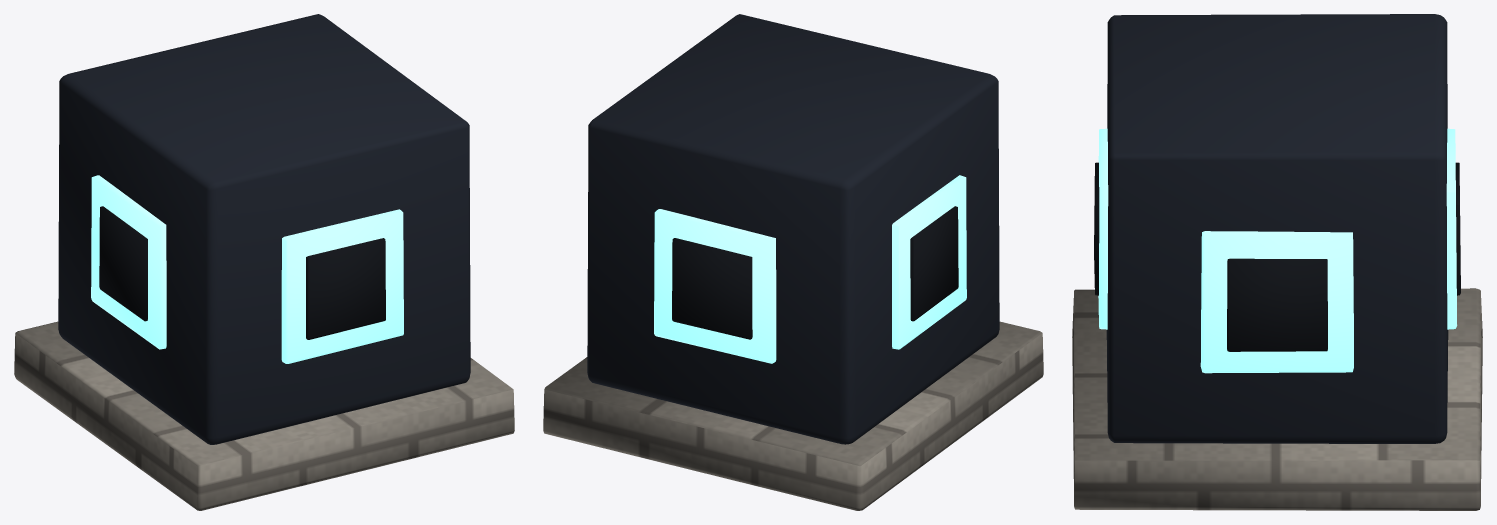
File: OBJ23_list_black_cube_node.glb
3 views of the same model, side by side, from view 1: azimuth 30°, elevation 25°; view 2: azimuth 150°, elevation 25°; view 3: azimuth 270°, elevation 25° (orthographic). The views are drawn at different scales.
Visible parts, largest first — view 1: BlackCube, StonePlinth, OuterGlowRing, InnerRecess, OuterGlowRing4, InnerRecess4; view 2: BlackCube, StonePlinth, OuterGlowRing3, InnerRecess3, OuterGlowRing4, InnerRecess4; view 3: BlackCube, StonePlinth, OuterGlowRing2, InnerRecess2, OuterGlowRing3, OuterGlowRing, InnerRecess, InnerRecess3.
Part boxes in pixels (x1,y1,x2,y2): BlackCube: [58, 14, 470, 444]; StonePlinth: [14, 321, 514, 510]; OuterGlowRing: [281, 209, 403, 363]; InnerRecess: [306, 238, 385, 339]; OuterGlowRing4: [91, 175, 166, 349]; InnerRecess4: [99, 206, 147, 321]; BlackCube: [587, 14, 999, 444]; StonePlinth: [543, 321, 1043, 510]; OuterGlowRing3: [654, 209, 776, 363]; InnerRecess3: [672, 238, 752, 339]; OuterGlowRing4: [892, 175, 966, 349]; InnerRecess4: [910, 206, 958, 321]; BlackCube: [1106, 14, 1448, 443]; StonePlinth: [1072, 288, 1482, 510]; OuterGlowRing2: [1200, 231, 1353, 373]; InnerRecess2: [1227, 258, 1327, 351]; OuterGlowRing3: [1446, 128, 1457, 329]; OuterGlowRing: [1098, 128, 1108, 329]; InnerRecess: [1094, 162, 1099, 295]; InnerRecess3: [1455, 162, 1460, 295].
Size of the model in its own units: 0.96 by 0.89 by 0.96.
Materials: 4 (1 with a texture image).
